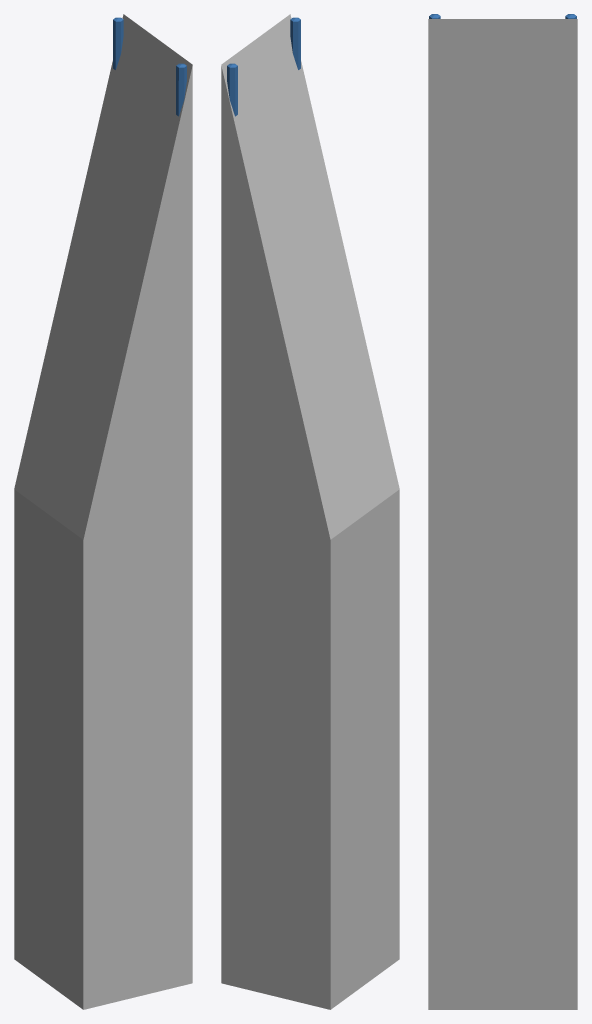
The model's file is SM_Satellite_03.fbx.
3 renders of one model, left to right at view 1: azimuth 30°, elevation 25°; view 2: azimuth 150°, elevation 25°; view 3: azimuth 270°, elevation 25°, orthographic. The views are drawn at different scales.
Visible parts, largest first — view 1: SM_Satellite_03_ConvexHulls, SM_Satellite_03; view 2: SM_Satellite_03_ConvexHulls, SM_Satellite_03; view 3: SM_Satellite_03_ConvexHulls.
Boxes of the visible parts, x1,y1,x2,y2 form: SM_Satellite_03_ConvexHulls: (14,14,192,1009); SM_Satellite_03: (113,17,186,116); SM_Satellite_03_ConvexHulls: (221,14,399,1009); SM_Satellite_03: (227,17,300,116); SM_Satellite_03_ConvexHulls: (428,19,577,1009).
Size of the model in its own units: 200 by 219 by 1606.
2 materials, 1 textured.
